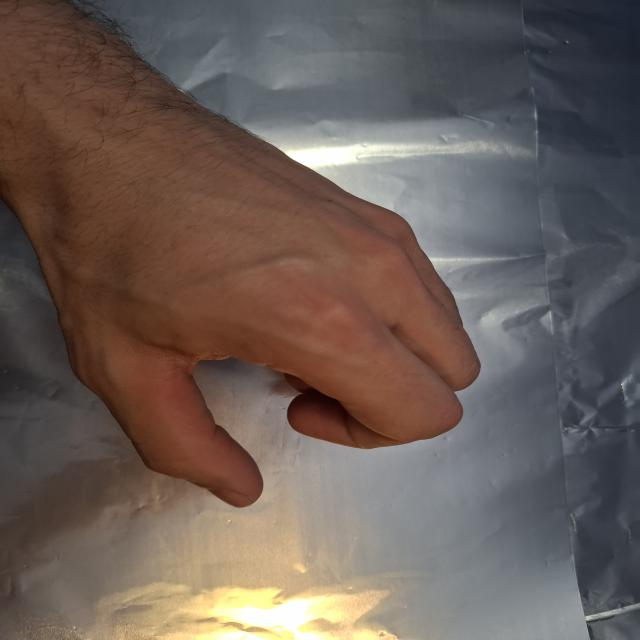glove_off: (19, 130, 485, 509)
